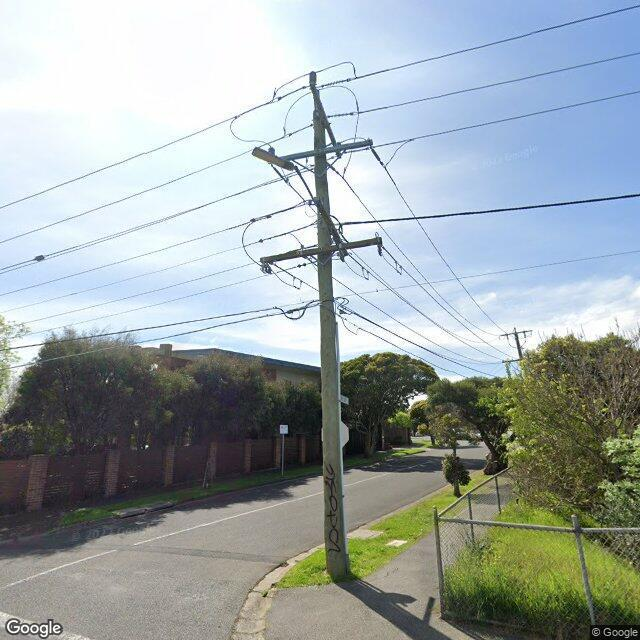HV-transmission: (308, 70, 346, 160)
crossarm: (269, 135, 397, 204), (260, 233, 403, 290), (250, 194, 348, 272), (311, 86, 342, 159), (499, 330, 534, 340)
streetlight: (252, 146, 324, 214)
timber-pole: (314, 108, 351, 579), (514, 326, 523, 358)
